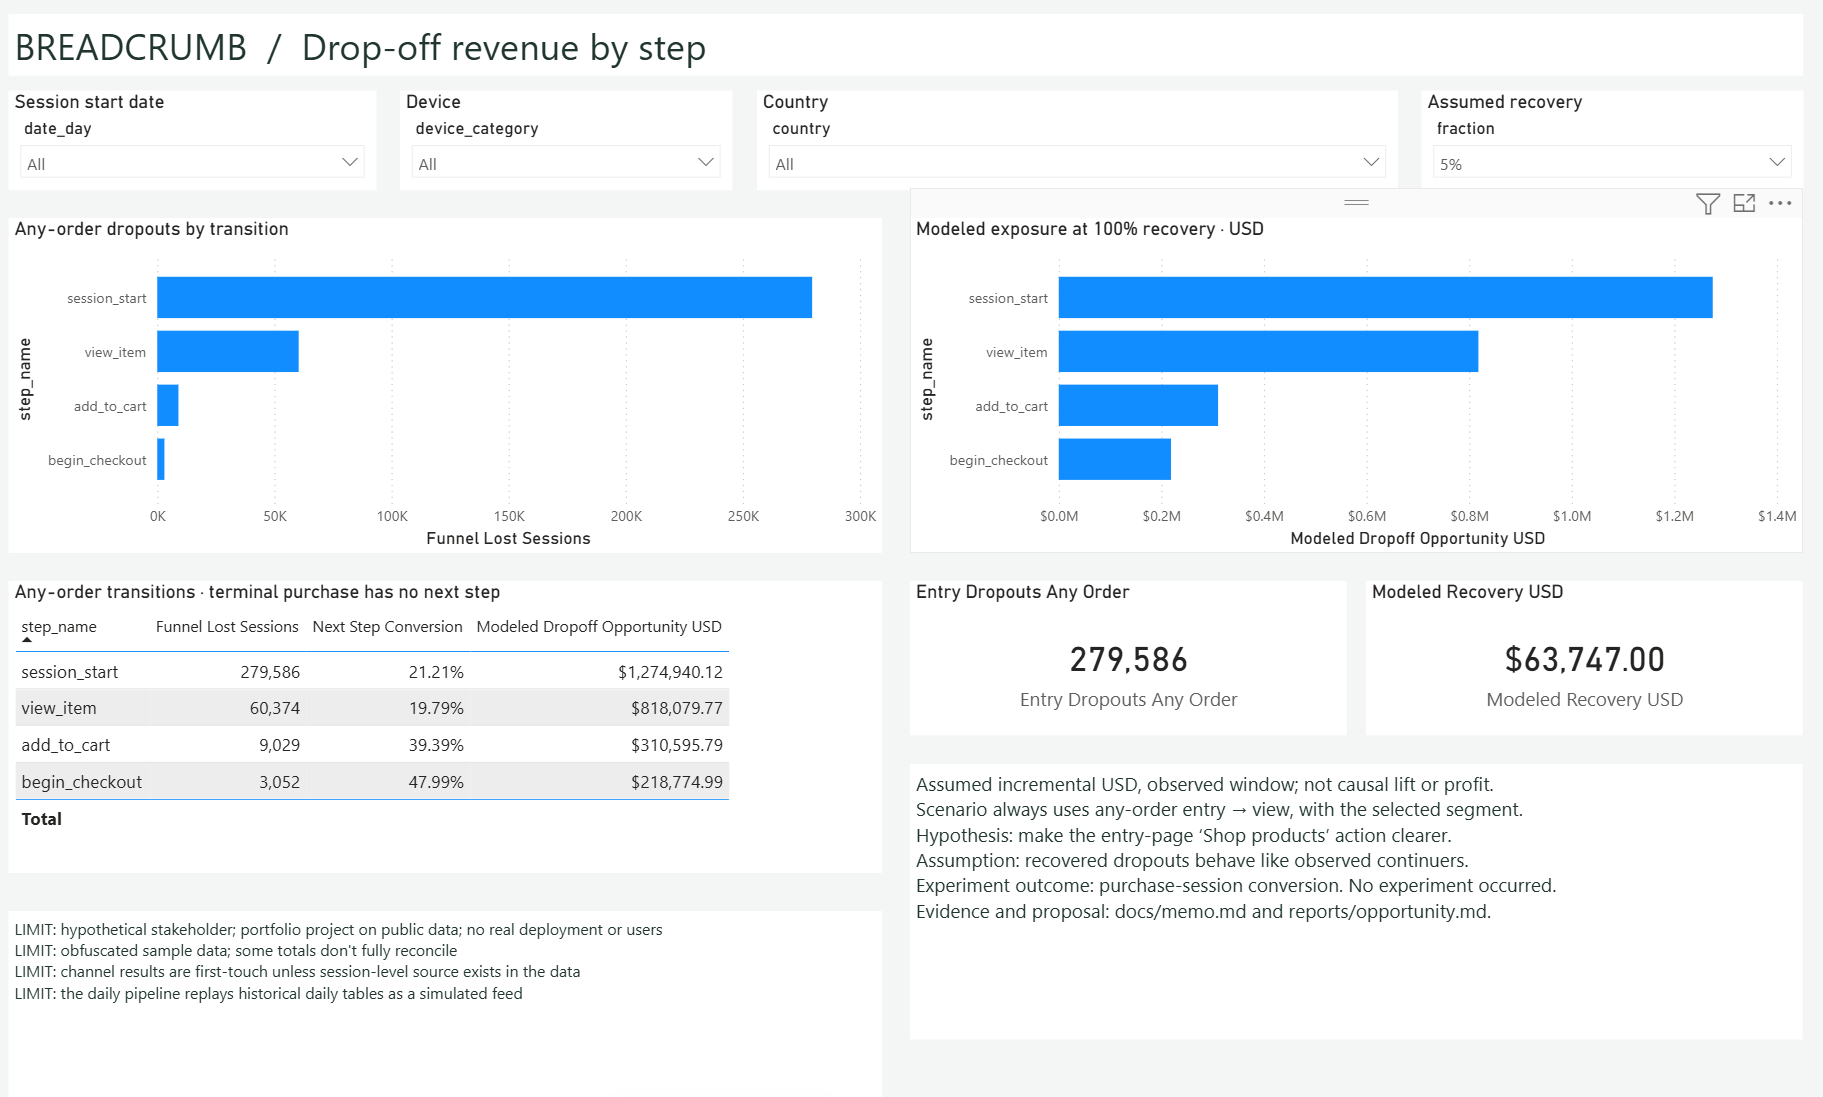

Layout of this report page (visuals, bound fields, positions):
{"tool":"powerbi","page":{"name":"Drop-off revenue by step","canvas":[1560,984],"ordinal":2},"visuals":[{"type":"textbox","box":[24,10,1512,52],"z":0},{"type":"textbox","box":[24,944,1512,36],"z":1},{"type":"slicer","title":"Session start date","fields":{"Values":["dim_date.date_day"]},"box":[24,74,310,84],"z":2},{"type":"slicer","title":"Device","fields":{"Values":["dim_device.device_category"]},"box":[354,74,280,84],"z":3},{"type":"slicer","title":"Country","fields":{"Values":["dim_country.country"]},"box":[654,74,540,84],"z":4},{"type":"slicer","title":"Assumed recovery","fields":{"Values":["recovery_assumption.fraction"]},"box":[1214,74,322,84],"z":5},{"type":"barChart","title":"Any-order dropouts by transition","fields":{"Category":["fct_funnel_daily.step_name"],"Y":["fct_sessions.Funnel Lost Sessions"]},"box":[24,182,736,282],"z":6},{"type":"barChart","title":"Modeled exposure at 100% recovery · USD","fields":{"Category":["fct_funnel_daily.step_name"],"Y":["fct_sessions.Modeled Dropoff Opportunity USD"]},"box":[784,182,752,282],"z":7},{"type":"tableEx","title":"Any-order transitions · terminal purchase has no next step","fields":{"Values":["fct_funnel_daily.step_name","fct_sessions.Funnel Lost Sessions","fct_sessions.Next Step Conversion","fct_sessions.Modeled Dropoff Opportunity USD"]},"box":[24,488,736,246],"z":8},{"type":"card","title":"Entry Dropouts Any Order","fields":{"Values":["fct_sessions.Entry Dropouts Any Order"]},"box":[784,488,368,130],"z":9},{"type":"card","title":"Modeled Recovery USD","fields":{"Values":["fct_sessions.Modeled Recovery USD"]},"box":[1168,488,368,130],"z":10},{"type":"textbox","box":[784,642,752,232],"z":11},{"type":"textbox","box":[24,766,736,164],"z":12}]}

Visuals, with their boxes on the page's 1560x984 design canvas (x1, y1, x2, y2). These are canvas units, not pixel positions in the 1823x1097 screenshot, which may show the page scaled, cropped or inside an application window:
textbox: 24,10,1536,62
textbox: 24,944,1536,980
"Session start date" slicer: 24,74,334,158
"Device" slicer: 354,74,634,158
"Country" slicer: 654,74,1194,158
"Assumed recovery" slicer: 1214,74,1536,158
"Any-order dropouts by transition" barChart: 24,182,760,464
"Modeled exposure at 100% recovery · USD" barChart: 784,182,1536,464
"Any-order transitions · terminal purchase has no next step" tableEx: 24,488,760,734
"Entry Dropouts Any Order" card: 784,488,1152,618
"Modeled Recovery USD" card: 1168,488,1536,618
textbox: 784,642,1536,874
textbox: 24,766,760,930
